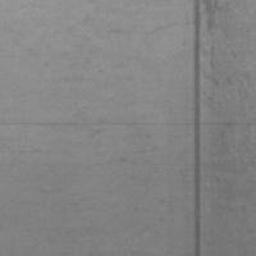Welding line: (192, 0, 202, 256)
